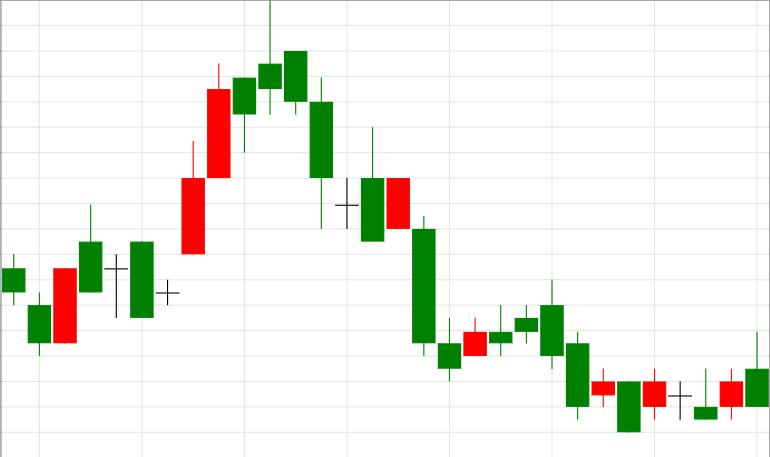shooting_star_fall: (157, 0, 281, 307)
